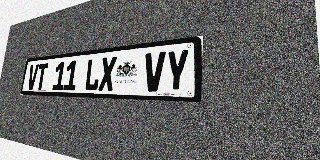1: (63, 60, 79, 90), (52, 61, 67, 90)
L: (84, 58, 101, 91)
T: (35, 63, 48, 90)
V: (143, 51, 166, 92), (26, 64, 39, 90)
X: (98, 56, 117, 91)
Y: (164, 49, 189, 92)
